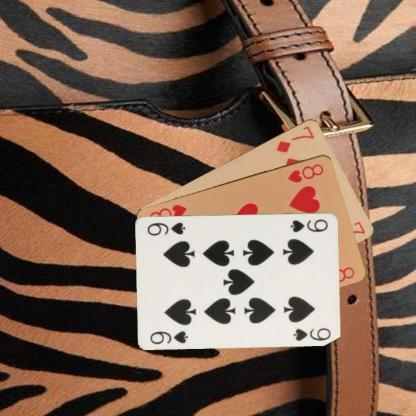7d: (274, 123, 316, 154)
8h: (285, 160, 325, 184)
9s: (288, 216, 330, 234), (148, 328, 190, 346)
